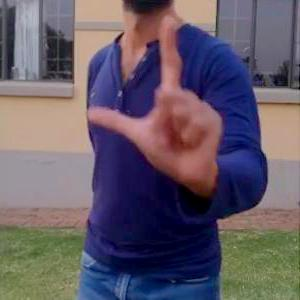land_hand: (85, 7, 227, 194)
